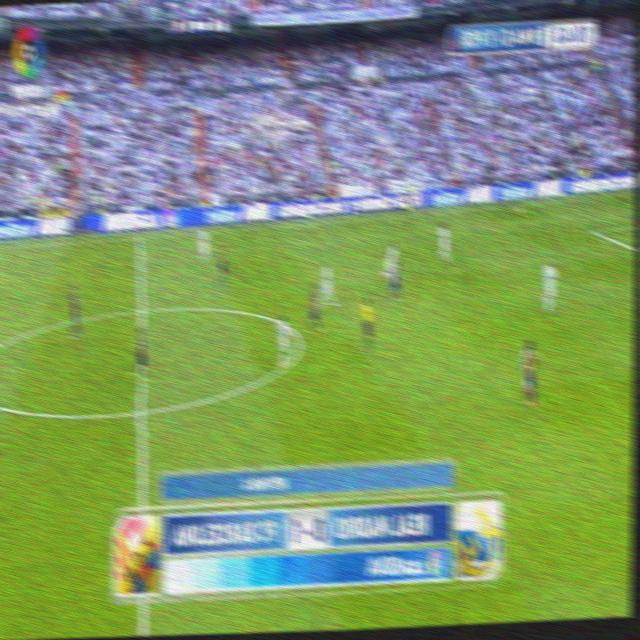halfcircle_bottom: (132, 395, 150, 427)
halfcircle_top: (133, 296, 149, 323)
midline_bottom_intersection: (132, 488, 152, 516)
midline_top_intersection: (133, 230, 146, 245)
